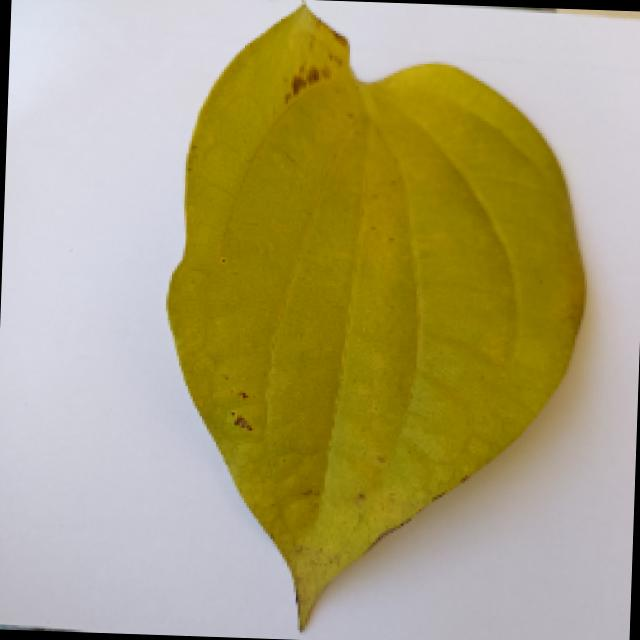slow-decline: (14, 5, 640, 640)
